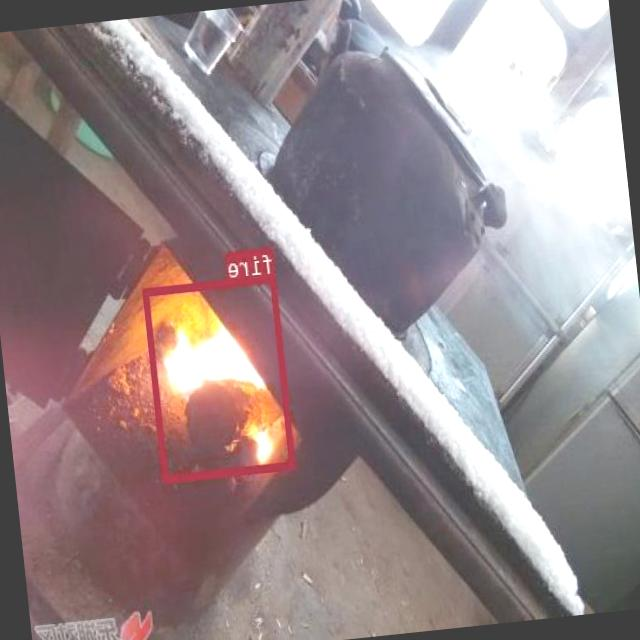fire: (144, 273, 296, 482)
